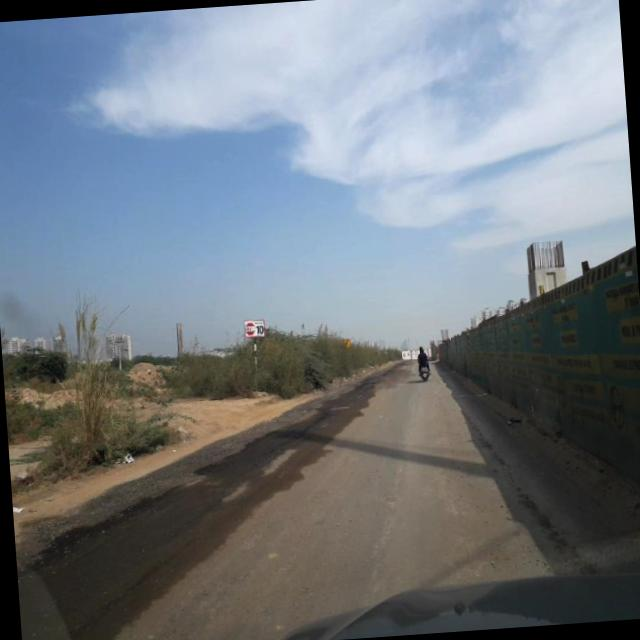crack: (49, 507, 232, 640), (232, 400, 336, 490)
